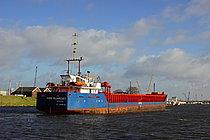Ship: (33, 28, 171, 119)
